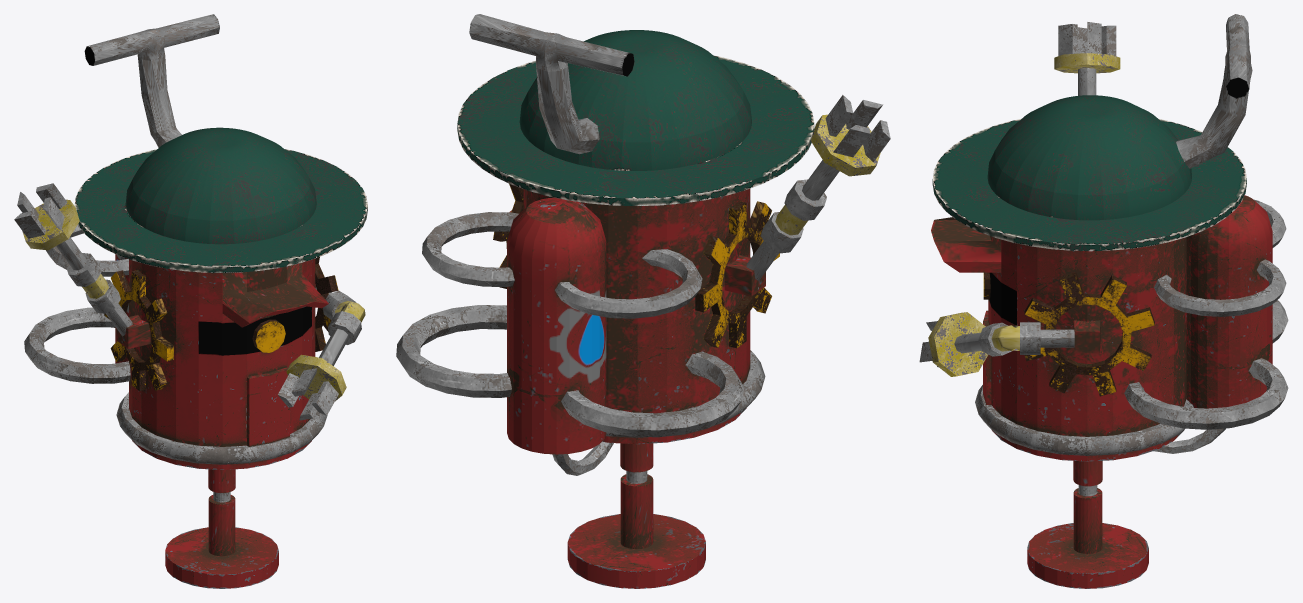
The model's file is Galiverpose.fbx.
3 renders of one model, left to right at view 1: azimuth 30°, elevation 25°; view 2: azimuth 150°, elevation 25°; view 3: azimuth 270°, elevation 25°, orthographic. The views are drawn at different scales.
Visible parts, largest first — view 1: polySurface10, polySurface1, polySurface8, polySurface9, polySurface4, polySurface11, polySurface6, polySurface12, polySurface7, polySurface2; view 2: polySurface10, polySurface1, polySurface5, polySurface4, polySurface8, polySurface2, polySurface11, polySurface3; view 3: polySurface1, polySurface10, polySurface5, polySurface12, polySurface9, polySurface4, polySurface2, polySurface8, polySurface3, polySurface6.
Part boxes in pixels (bbox=[...]): polySurface10: bbox=[74, 14, 367, 272]; polySurface1: bbox=[116, 258, 328, 588]; polySurface8: bbox=[14, 183, 132, 336]; polySurface9: bbox=[278, 287, 365, 420]; polySurface4: bbox=[24, 307, 130, 383]; polySurface11: bbox=[104, 270, 173, 390]; polySurface6: bbox=[247, 367, 289, 446]; polySurface12: bbox=[315, 257, 338, 351]; polySurface7: bbox=[252, 319, 285, 352]; polySurface2: bbox=[46, 224, 128, 276]; polySurface10: bbox=[457, 14, 814, 205]; polySurface1: bbox=[509, 188, 765, 588]; polySurface5: bbox=[507, 197, 606, 454]; polySurface4: bbox=[396, 305, 744, 437]; polySurface8: bbox=[746, 95, 890, 280]; polySurface2: bbox=[422, 212, 702, 318]; polySurface11: bbox=[695, 201, 779, 348]; polySurface3: bbox=[552, 441, 613, 475]; polySurface1: bbox=[931, 217, 1193, 588]; polySurface10: bbox=[932, 14, 1252, 251]; polySurface5: bbox=[1186, 195, 1272, 408]; polySurface12: bbox=[1024, 272, 1154, 396]; polySurface9: bbox=[919, 312, 1074, 376]; polySurface4: bbox=[1124, 300, 1288, 429]; polySurface2: bbox=[1154, 199, 1286, 316]; polySurface8: bbox=[1054, 22, 1120, 95]; polySurface3: bbox=[1153, 428, 1225, 453]; polySurface6: bbox=[983, 310, 991, 405].
Size of the model in its own units: 0.1559 by 0.2113 by 0.1363.
